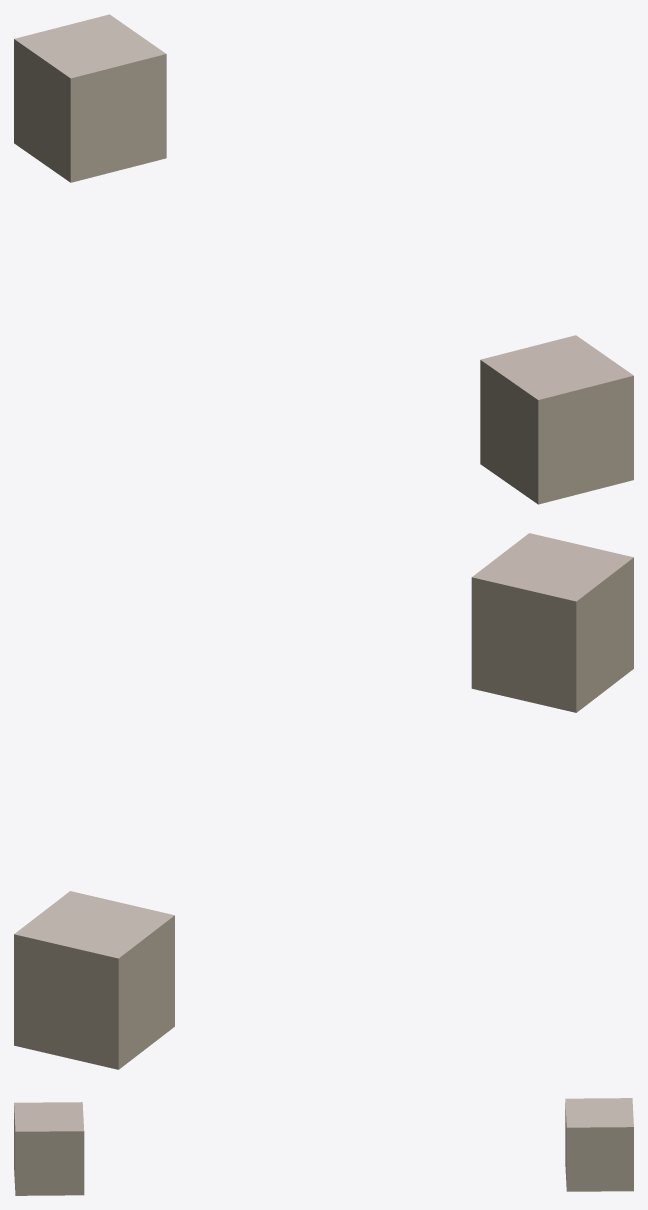
3 views of the same model, one above another, from view 1: azimuth 30°, elevation 25°; view 2: azimuth 150°, elevation 25°; view 3: azimuth 270°, elevation 25° (orthographic). The views are drawn at different scales.
Visible parts, largest first — view 1: tuile; view 2: tuile; view 3: tuile.
Boxes of the visible parts, bbox=[...] form: tuile: bbox=[14, 14, 633, 504]; tuile: bbox=[14, 533, 633, 1069]; tuile: bbox=[14, 1098, 633, 1195].
Size of the model in its own units: 5.7 by 4.95 by 42.4.
